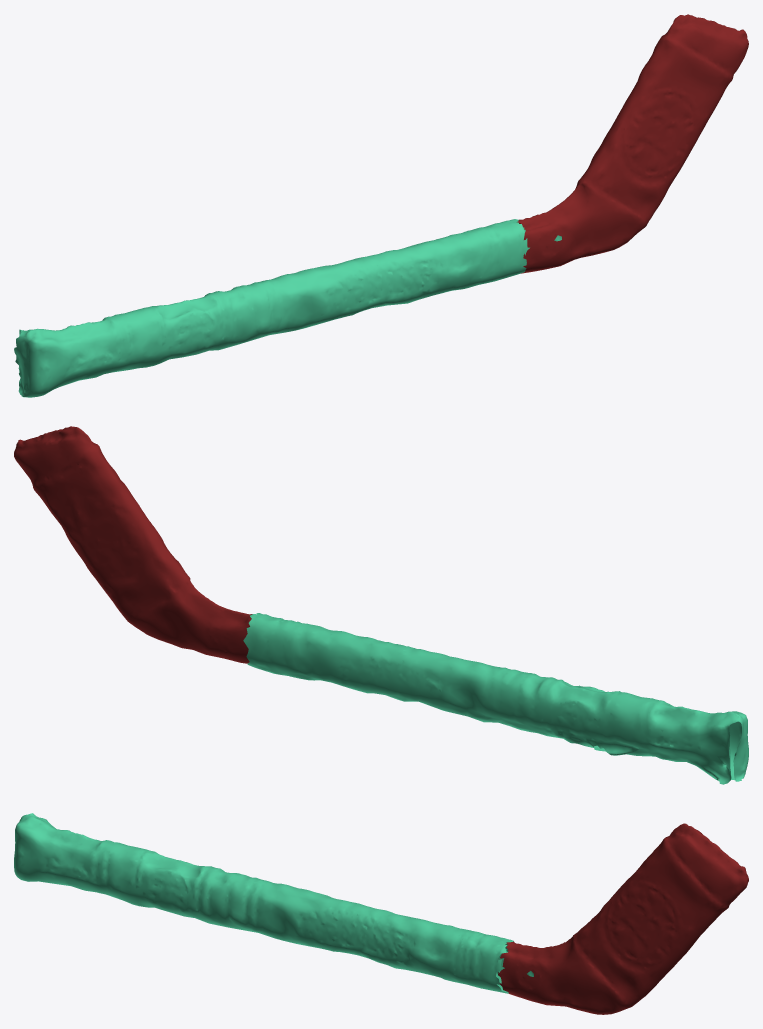
Rendered from object_deformed_4.obj.
The picture shows the model from 3 angles, top to bottom: view 1: azimuth 30°, elevation 25°; view 2: azimuth 150°, elevation 25°; view 3: azimuth 330°, elevation 25°; orthographic projection. The views are drawn at different scales.
Size of the model in its own units: 0.6064 by 0.1655 by 0.045.
